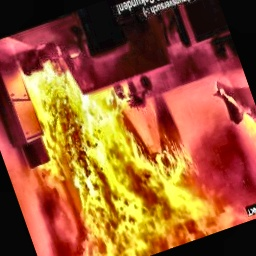fire: (0, 27, 256, 256)
